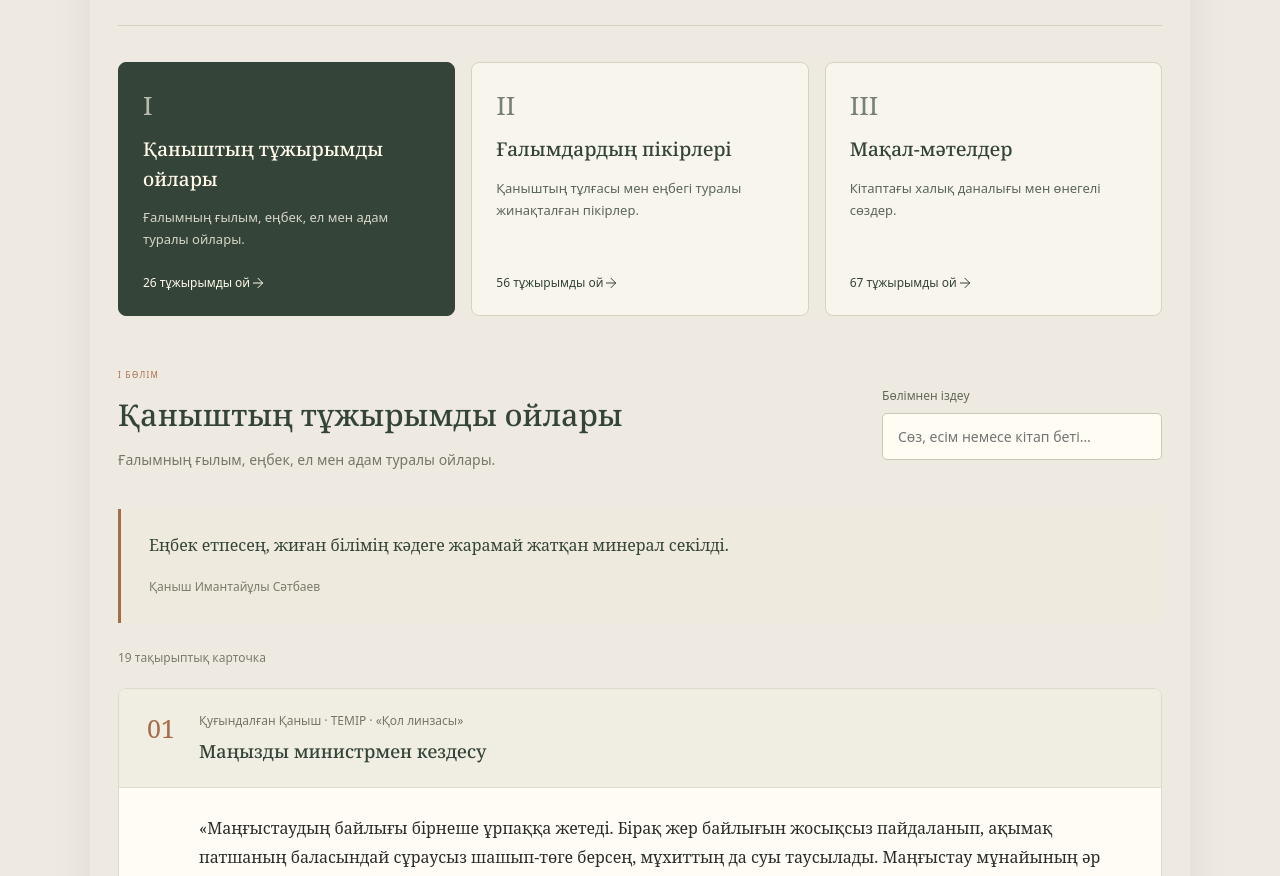
Test case: Қаныш әлемі энциклопедиясы › бөлім ауысқанда іздеуді тазартады
(page scrolled)
Type "Маңғыстау" into the search field. click: [1022, 436]
box: x1=882 y1=413 x2=1162 y2=460
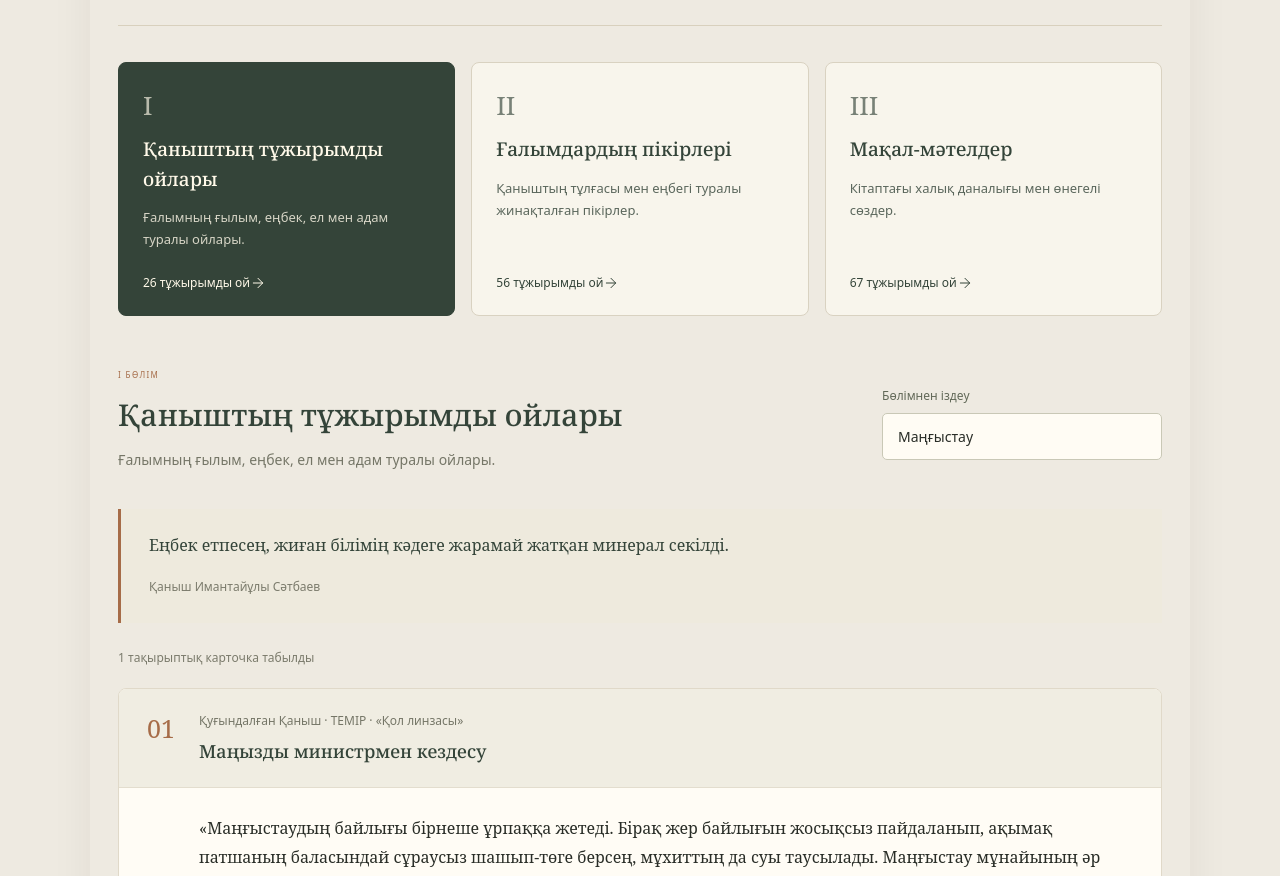
Click the button "Ғалымдардың пікірлері". click: [640, 189]
box: x1=471 y1=62 x2=809 y2=316
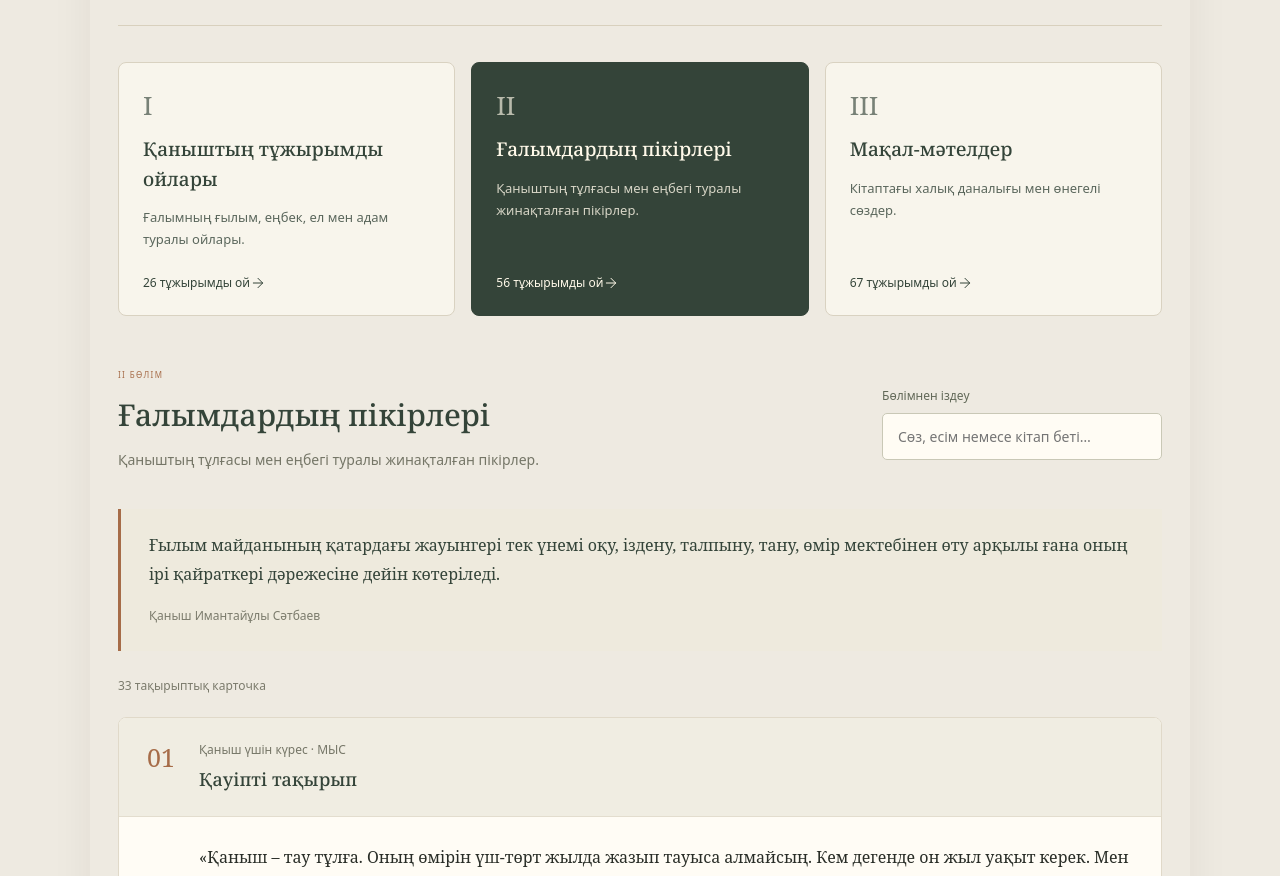
Now the search field is empty, box x1=882 y1=413 x2=1162 y2=460
Now the number of elements with class "encyclopedia-entry" is 33
